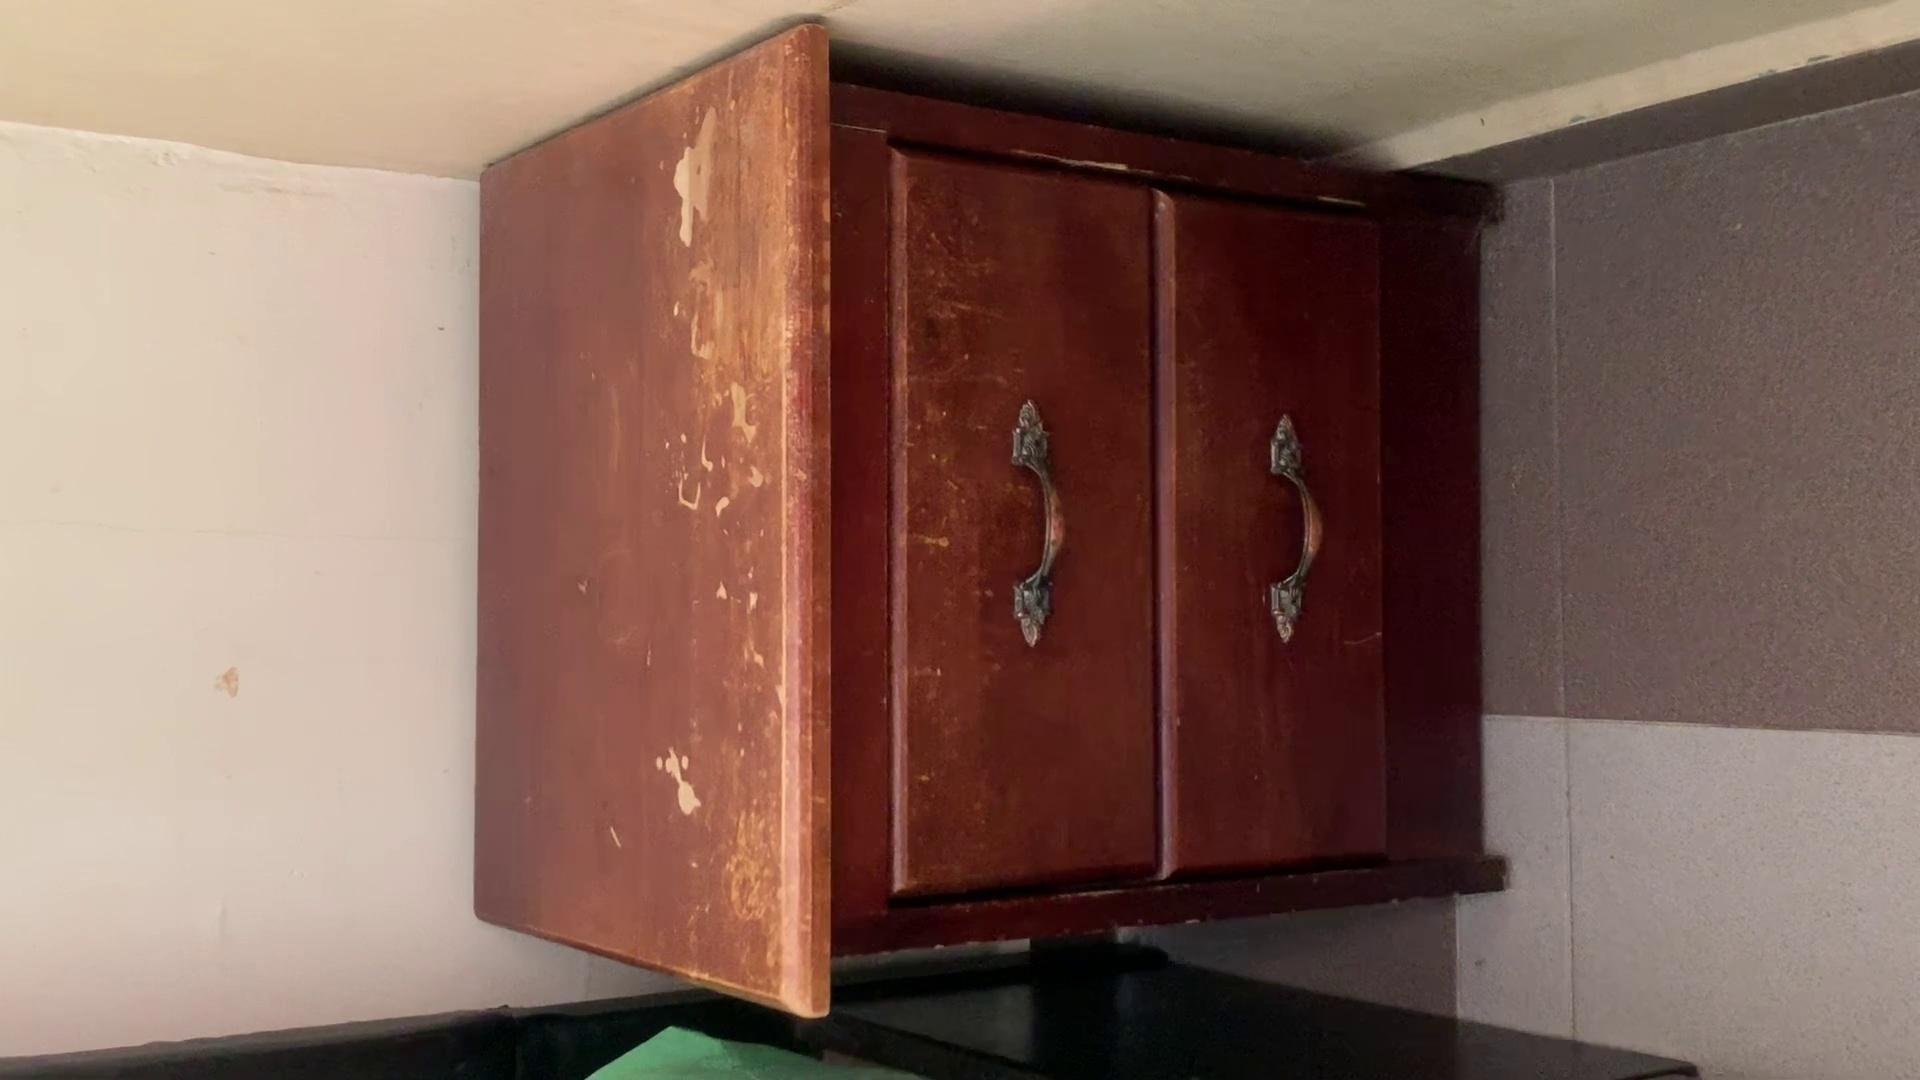cabinet_door: (868, 169, 1139, 891), (1164, 199, 1390, 873)
handle: (996, 394, 1092, 653), (1245, 407, 1344, 651)
